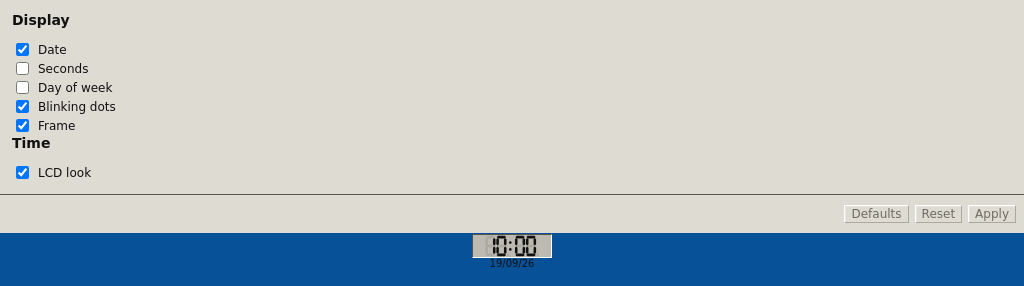
Test: Configure Clock › keeps clock changes local until Apply and preserves independent rendering controls
Click the checkbox labelled "Seconds" at (22, 68), box [16,62,29,75]
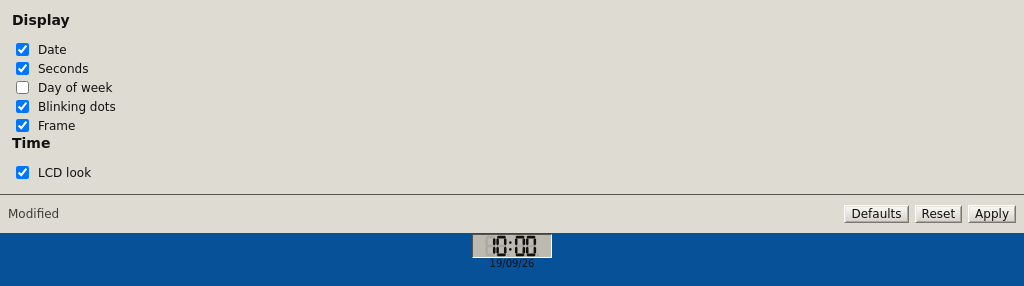
Click the checkbox labelled "Day of week" at (22, 88), box [16,81,29,94]
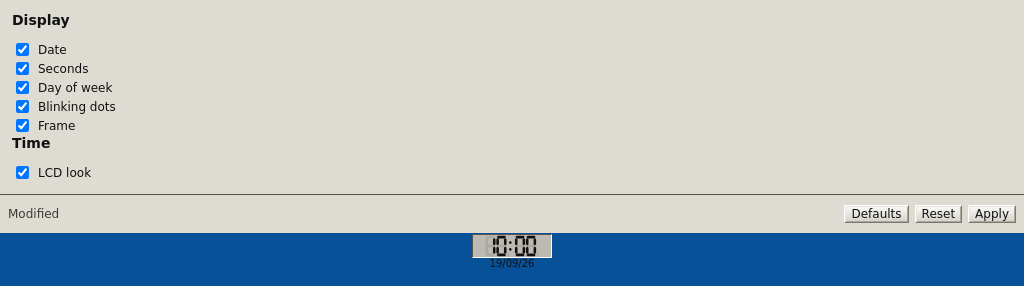
Click the checkbox labelled "Blinking dots" at (22, 106), box [16,100,29,113]
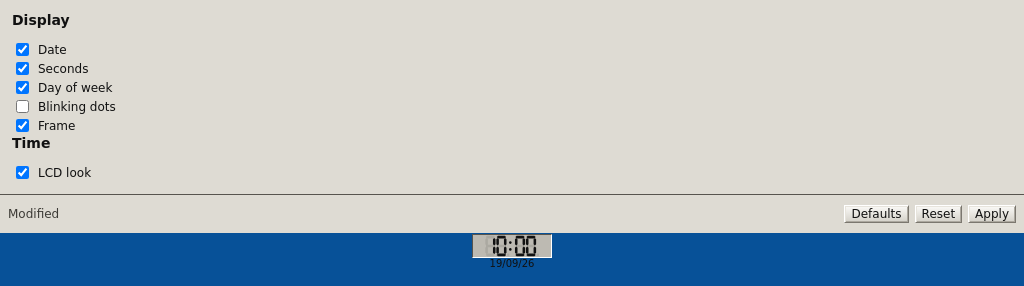
Click the checkbox labelled "Frame" at (22, 126), box [16,119,29,132]
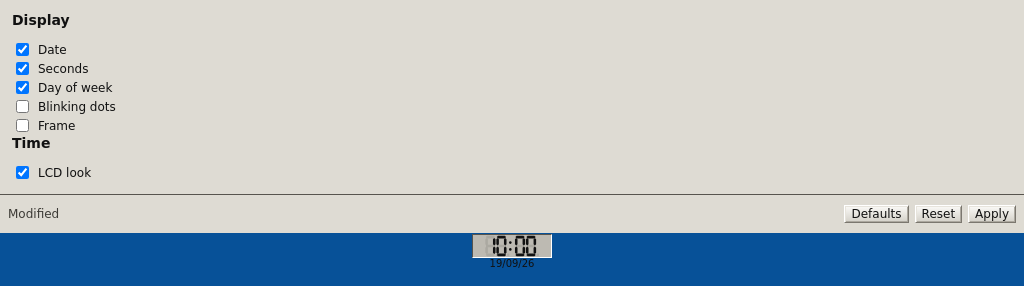
Click the checkbox labelled "LCD look" at (22, 172), box [16,166,29,179]
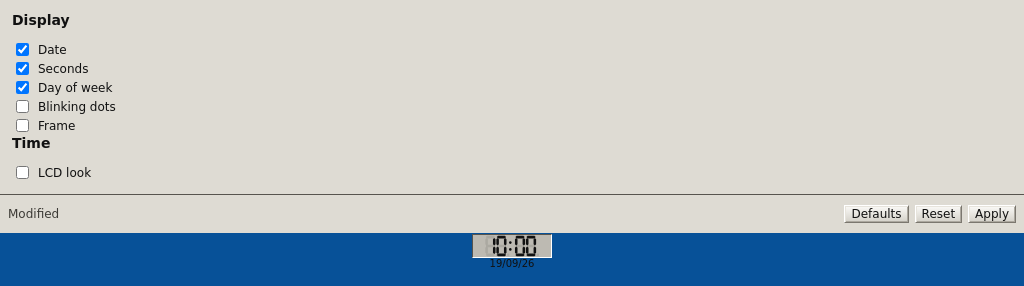
Check: the text with class "digital-clock__date" reads "19/09/26", box [490,258,534,269]
Click the button "Apply" at (992, 214), box [968,205,1016,223]
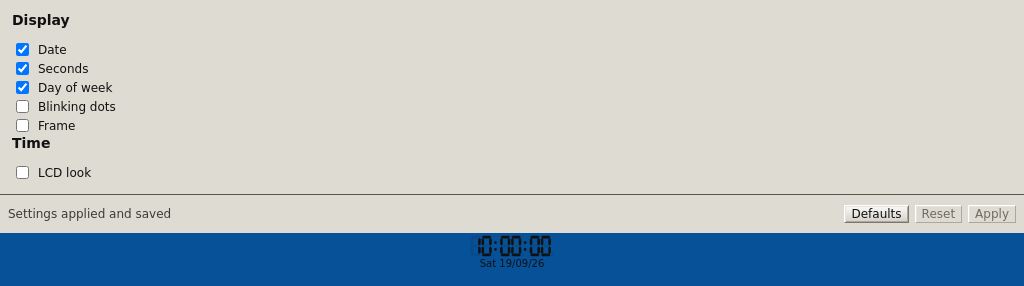
Check: the checkbox labelled "Date" is checked, box [16,43,29,56]
Check: the text with class "digital-clock__date" reads "Sat 19/09/26", box [480,258,544,269]
